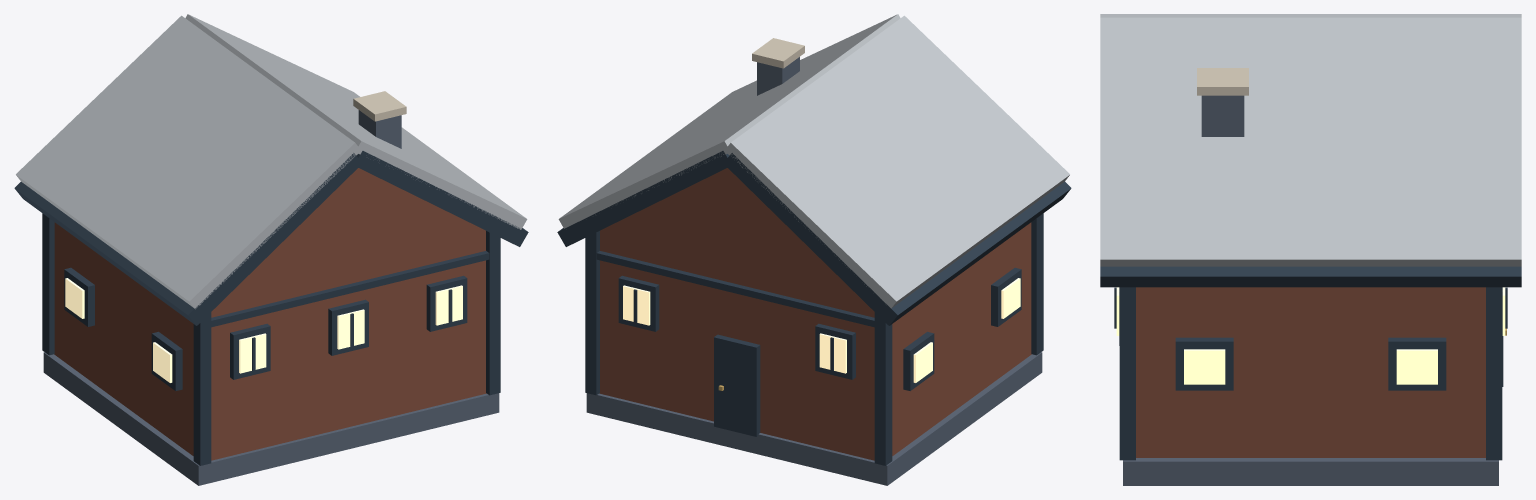
Rendered from chalet.glb.
3 renders of one model, left to right at view 1: azimuth 30°, elevation 25°; view 2: azimuth 150°, elevation 25°; view 3: azimuth 270°, elevation 25°, orthographic. The views are drawn at different scales.
Visible parts, largest first — view 1: chalet; view 2: chalet; view 3: chalet.
Boxes of the visible parts, x1,y1,x2,y2 form: chalet: (14,14,528,485); chalet: (557,14,1071,485); chalet: (1100,14,1521,485).
Size of the model in its own units: 4.95 by 4.36 by 4.37.
